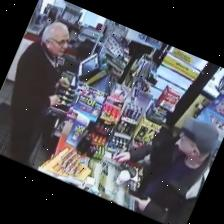person: (113, 119, 217, 223), (9, 22, 69, 166)
